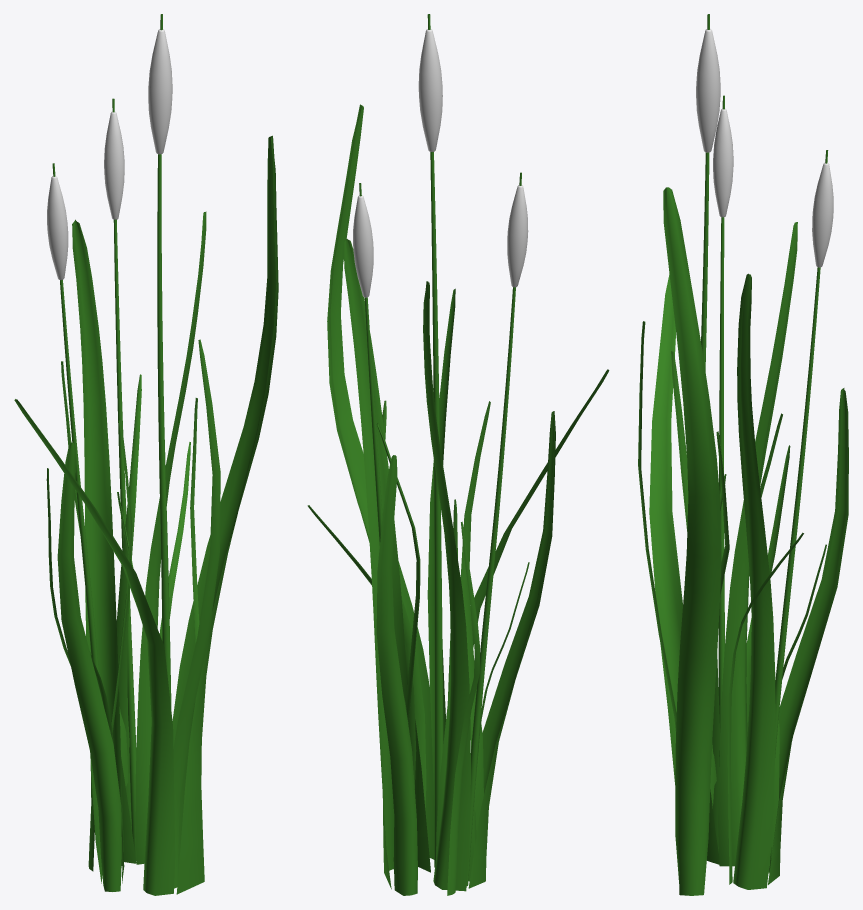
The model's file is algue.fbx.
The picture shows the model from 3 angles, left to right: view 1: azimuth 30°, elevation 25°; view 2: azimuth 150°, elevation 25°; view 3: azimuth 270°, elevation 25°; orthographic projection.
Parts seen in each view (by area): view 1: plant_3; view 2: plant_3; view 3: plant_3.
Boxes of the visible parts, x1,y1,x2,y2 form: plant_3: (14,14,278,895); plant_3: (307,14,609,895); plant_3: (638,14,848,895).
Size of the model in its own units: 559 by 1716 by 376.
